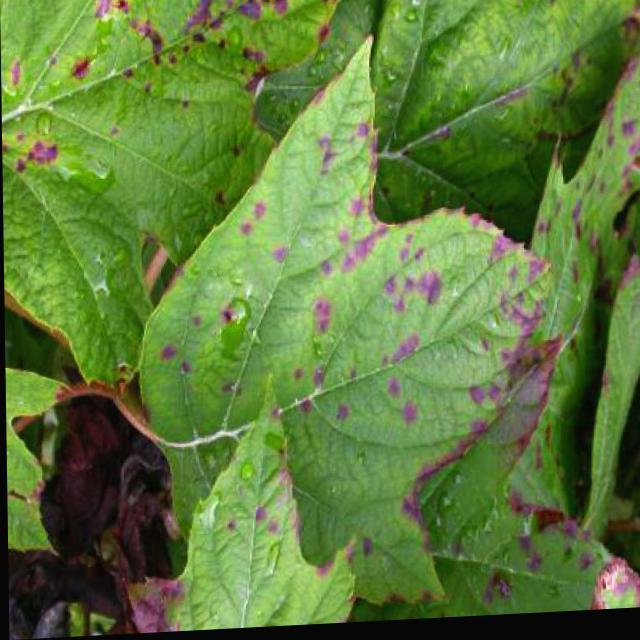Tomato late blight leaf: (145, 28, 558, 510)
